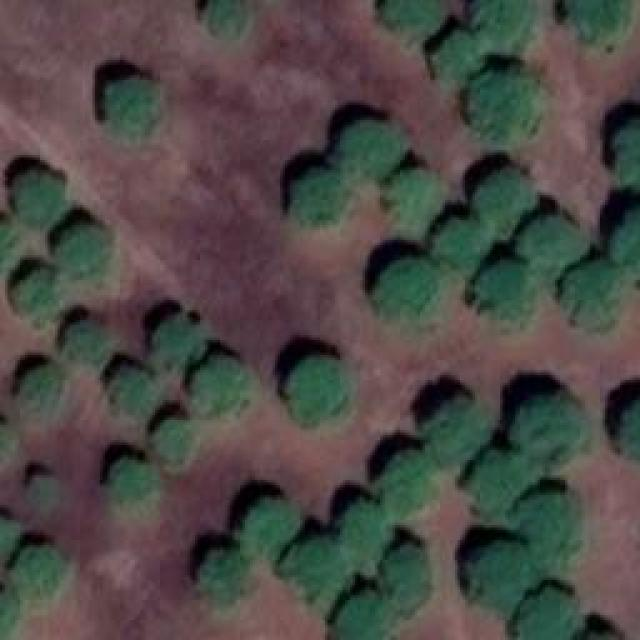Tree: (468, 65, 538, 143), (367, 255, 435, 330), (465, 540, 530, 615), (512, 395, 580, 463), (518, 493, 581, 566), (288, 353, 351, 423), (337, 118, 405, 178), (283, 538, 338, 611), (380, 450, 438, 518), (425, 398, 485, 463), (468, 450, 528, 515), (95, 77, 160, 135), (283, 167, 348, 225), (378, 167, 443, 225), (190, 355, 253, 413), (380, 543, 430, 613), (150, 315, 208, 375), (513, 215, 576, 270), (565, 260, 620, 323), (428, 25, 481, 88), (54, 225, 115, 278), (473, 265, 528, 323), (338, 500, 388, 563), (245, 498, 300, 553), (480, 0, 540, 50), (475, 168, 525, 228), (565, 0, 630, 45), (203, 547, 253, 605), (517, 590, 575, 640), (15, 542, 63, 600), (105, 363, 155, 416), (105, 458, 153, 511), (385, 0, 440, 45), (17, 365, 65, 415), (150, 418, 198, 468), (338, 592, 388, 640), (13, 170, 58, 220), (63, 318, 108, 368), (435, 220, 485, 265), (610, 120, 640, 185), (610, 208, 640, 273), (15, 273, 58, 316), (612, 393, 640, 458), (204, 0, 247, 32), (0, 585, 22, 640), (30, 472, 58, 510), (0, 515, 20, 558)
